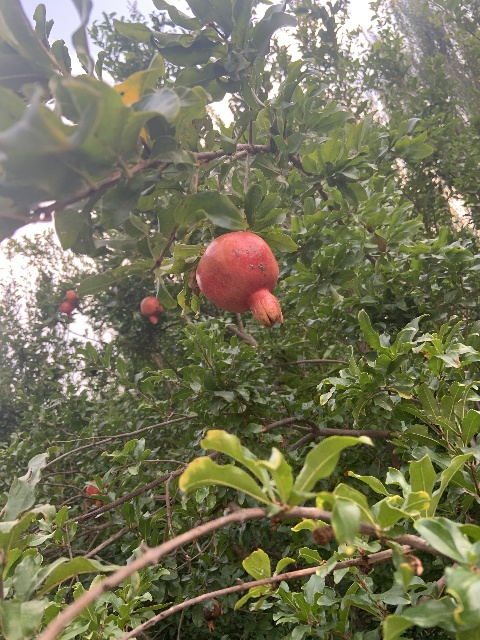ripe: (196, 231, 283, 327), (85, 477, 109, 506), (140, 296, 163, 323), (59, 301, 73, 317), (65, 289, 78, 303)
